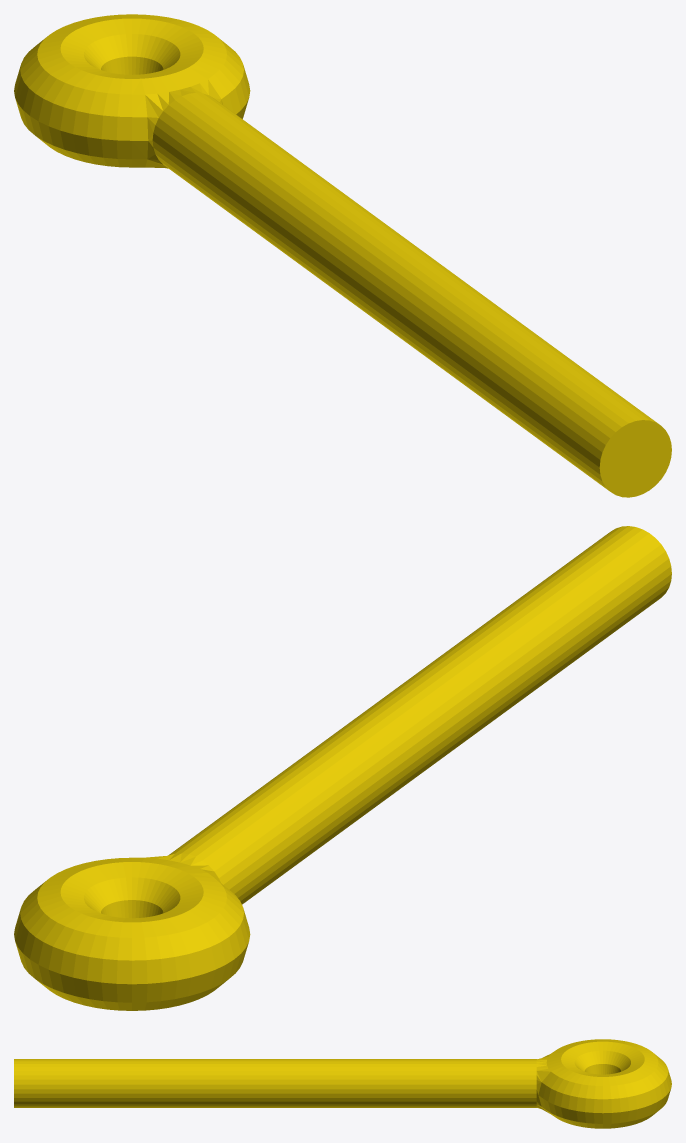
The picture shows the model from 3 angles, top to bottom: view 1: azimuth 30°, elevation 25°; view 2: azimuth 150°, elevation 25°; view 3: azimuth 270°, elevation 25°; orthographic projection. The views are drawn at different scales.
Visible parts, largest first — view 1: second_stick; view 2: second_stick; view 3: second_stick.
Part boxes in pixels (x1=…): second_stick: x1=14, y1=14, x2=671, y2=497; second_stick: x1=14, y1=526, x2=671, y2=1010; second_stick: x1=14, y1=1039, x2=671, y2=1128.
Bounding box in the file's own units: 3.3 × 15.72 × 1.3.
